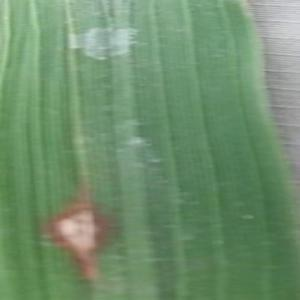Rice_Blast: (36, 175, 129, 275)
